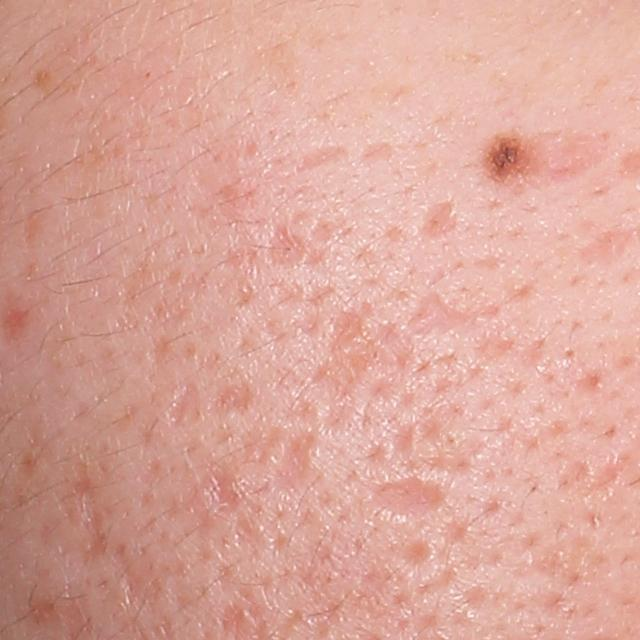atrophic_scar: (303, 306, 400, 438), (531, 126, 623, 186), (176, 440, 236, 528), (400, 286, 469, 342), (73, 462, 107, 566), (371, 476, 447, 520), (413, 196, 466, 246), (272, 436, 313, 493), (266, 275, 334, 309), (161, 381, 202, 430), (296, 142, 352, 173), (209, 384, 246, 421), (400, 536, 435, 568), (359, 137, 398, 164), (391, 421, 413, 459)
nevus: (482, 133, 529, 191)
